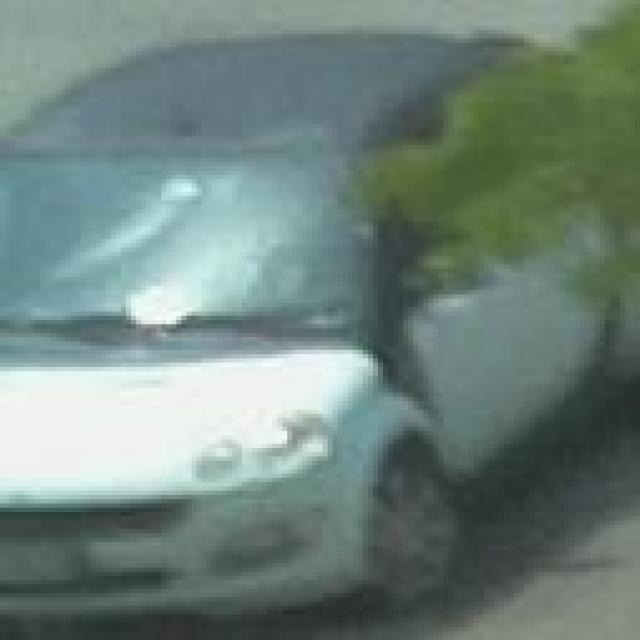cars-sUYr: (3, 24, 640, 640)
